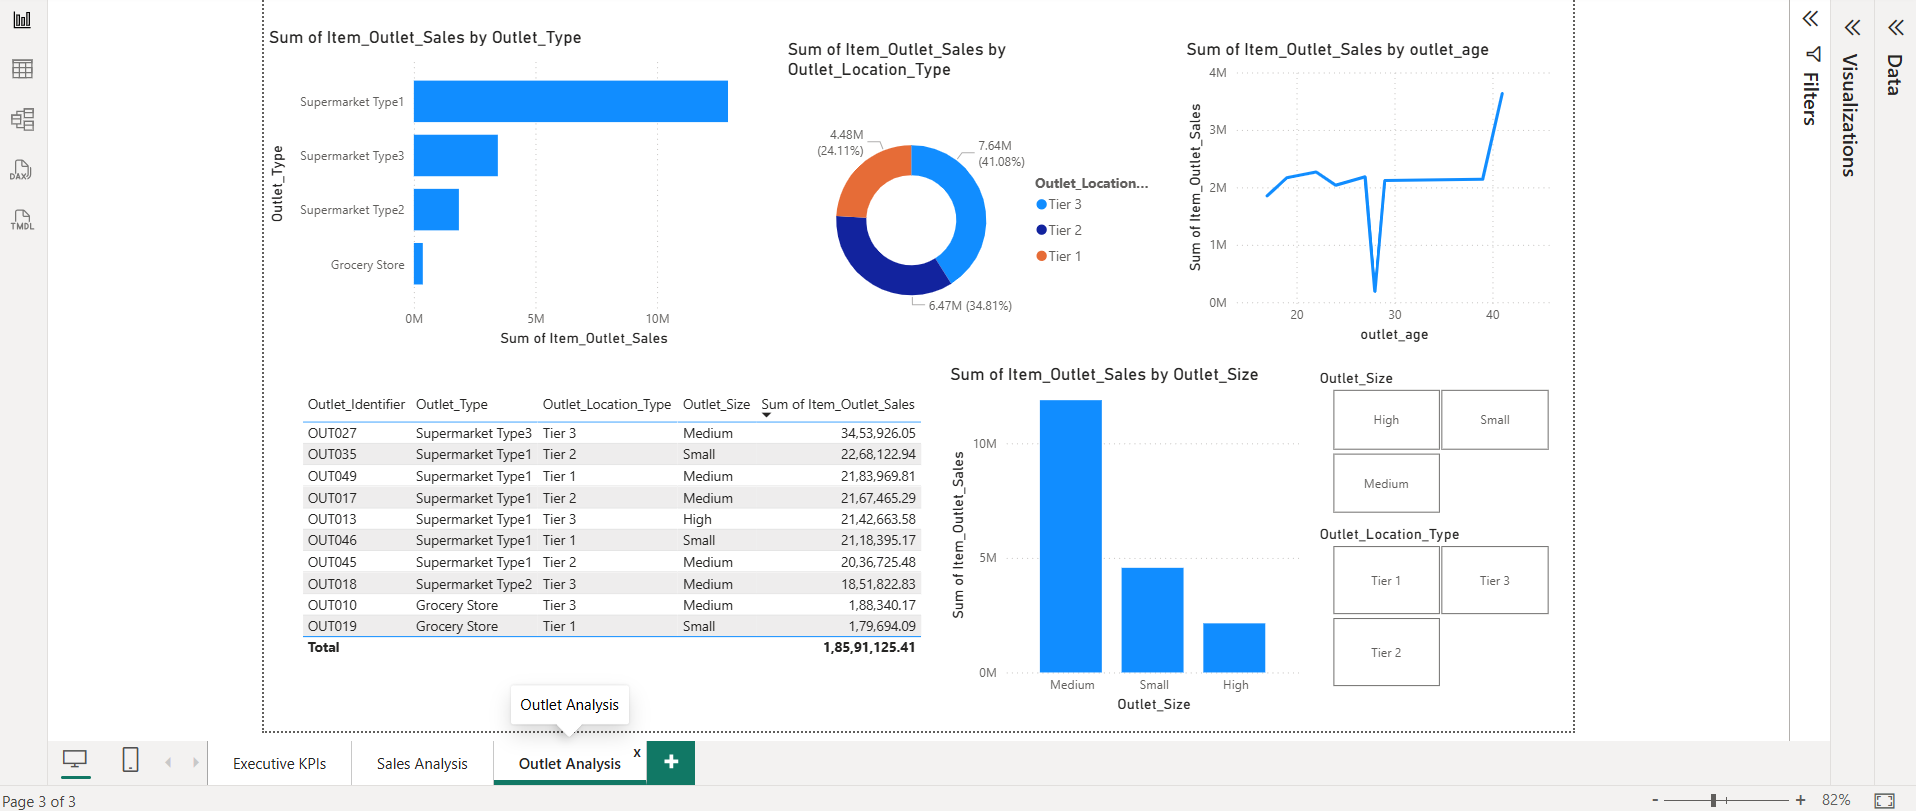

The page's visual inventory and layout, read from the dashboard file:
{"tool":"powerbi","page":{"name":"Outlet Analysis","canvas":[1280,720],"ordinal":2},"visuals":[{"type":"clusteredBarChart","fields":{"Category":["BLINKIT_CLEANED.Outlet_Type"],"Y":["Sum(BLINKIT_CLEANED.Item_Outlet_Sales)"]},"box":[0,30.5,496.9,318.6],"z":0},{"type":"donutChart","fields":{"Category":["BLINKIT_CLEANED.Outlet_Location_Type"],"Y":["Sum(BLINKIT_CLEANED.Item_Outlet_Sales)"]},"box":[507.6,42.7,368.9,317],"z":1000},{"type":"clusteredColumnChart","fields":{"Category":["BLINKIT_CLEANED.Outlet_Size"],"Y":["Sum(BLINKIT_CLEANED.Item_Outlet_Sales)"]},"box":[666.1,361.2,353.6,346],"z":2000},{"type":"lineChart","fields":{"Y":["Sum(BLINKIT_CLEANED.Item_Outlet_Sales)"],"Category":["BLINKIT_CLEANED.outlet_age"]},"box":[897.7,42.7,367.3,301.8],"z":3000},{"type":"tableEx","fields":{"Values":["BLINKIT_CLEANED.Outlet_Identifier","BLINKIT_CLEANED.Outlet_Type","BLINKIT_CLEANED.Outlet_Location_Type","BLINKIT_CLEANED.Outlet_Size","Sum(BLINKIT_CLEANED.Item_Outlet_Sales)"]},"box":[32,384.1,621.9,288.1],"z":4000},{"type":"slicer","fields":{"Values":["BLINKIT_CLEANED.Outlet_Size"]},"box":[1019.7,361.2,260.6,152.4],"z":5000},{"type":"slicer","fields":{"Values":["BLINKIT_CLEANED.Outlet_Location_Type"]},"box":[1019.7,513.6,260.6,169.2],"z":6000}]}

Visuals, with their boxes on the page's 1280x720 design canvas (x1, y1, x2, y2). These are canvas units, not pixel positions in the 1916x811 screenshot, which may show the page scaled, cropped or inside an application window:
clusteredBarChart - BLINKIT_CLEANED.Outlet_Type x Sum(BLINKIT_CLEANED.Item_Outlet_Sales): bbox=[0, 30, 497, 349]
donutChart - BLINKIT_CLEANED.Outlet_Location_Type x Sum(BLINKIT_CLEANED.Item_Outlet_Sales): bbox=[508, 43, 876, 360]
clusteredColumnChart - BLINKIT_CLEANED.Outlet_Size x Sum(BLINKIT_CLEANED.Item_Outlet_Sales): bbox=[666, 361, 1020, 707]
lineChart - Sum(BLINKIT_CLEANED.Item_Outlet_Sales) x BLINKIT_CLEANED.outlet_age: bbox=[898, 43, 1265, 344]
tableEx - BLINKIT_CLEANED.Outlet_Identifier x BLINKIT_CLEANED.Outlet_Type: bbox=[32, 384, 654, 672]
slicer - BLINKIT_CLEANED.Outlet_Size: bbox=[1020, 361, 1280, 514]
slicer - BLINKIT_CLEANED.Outlet_Location_Type: bbox=[1020, 514, 1280, 683]
